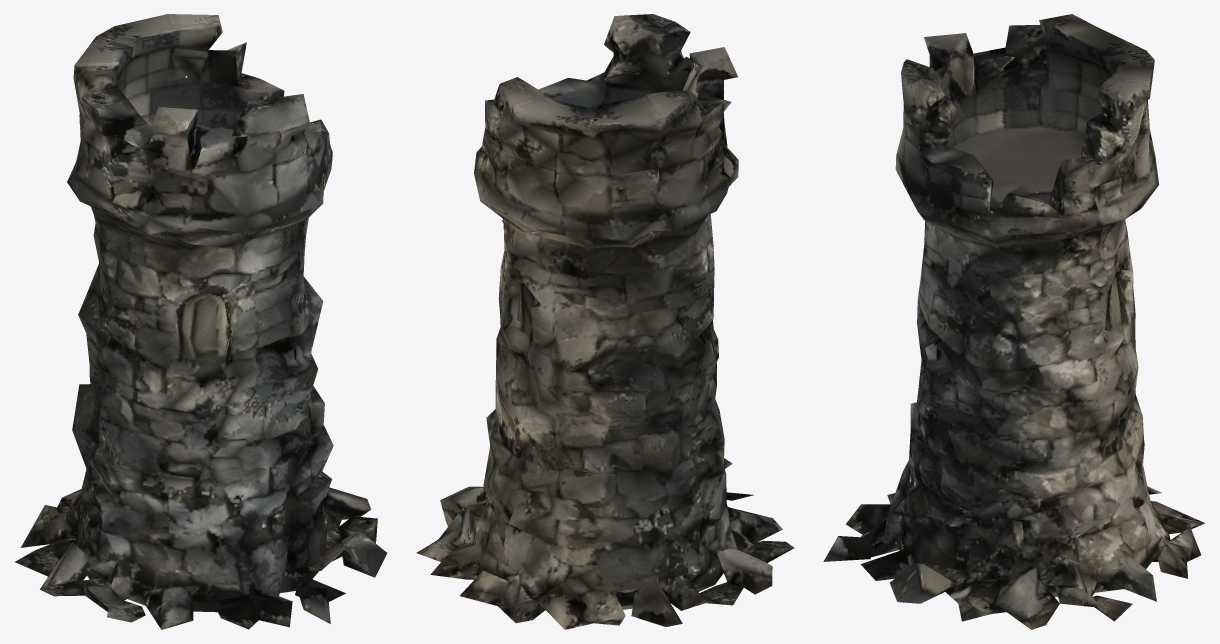
The model's file is tower_ruin_lod2.glb.
3 renders of one model, left to right at view 1: azimuth 30°, elevation 25°; view 2: azimuth 150°, elevation 25°; view 3: azimuth 270°, elevation 25°, orthographic.
Visible parts, largest first — view 1: tower_ruin_lod2; view 2: tower_ruin_lod2; view 3: tower_ruin_lod2.
Boxes of the visible parts, bbox=[...] form: tower_ruin_lod2: bbox=[15, 14, 387, 629]; tower_ruin_lod2: bbox=[416, 14, 794, 629]; tower_ruin_lod2: bbox=[823, 14, 1205, 629].
Bounding box in the file's own units: 15.91 × 23 × 16.19.
1 material, 1 textured.
